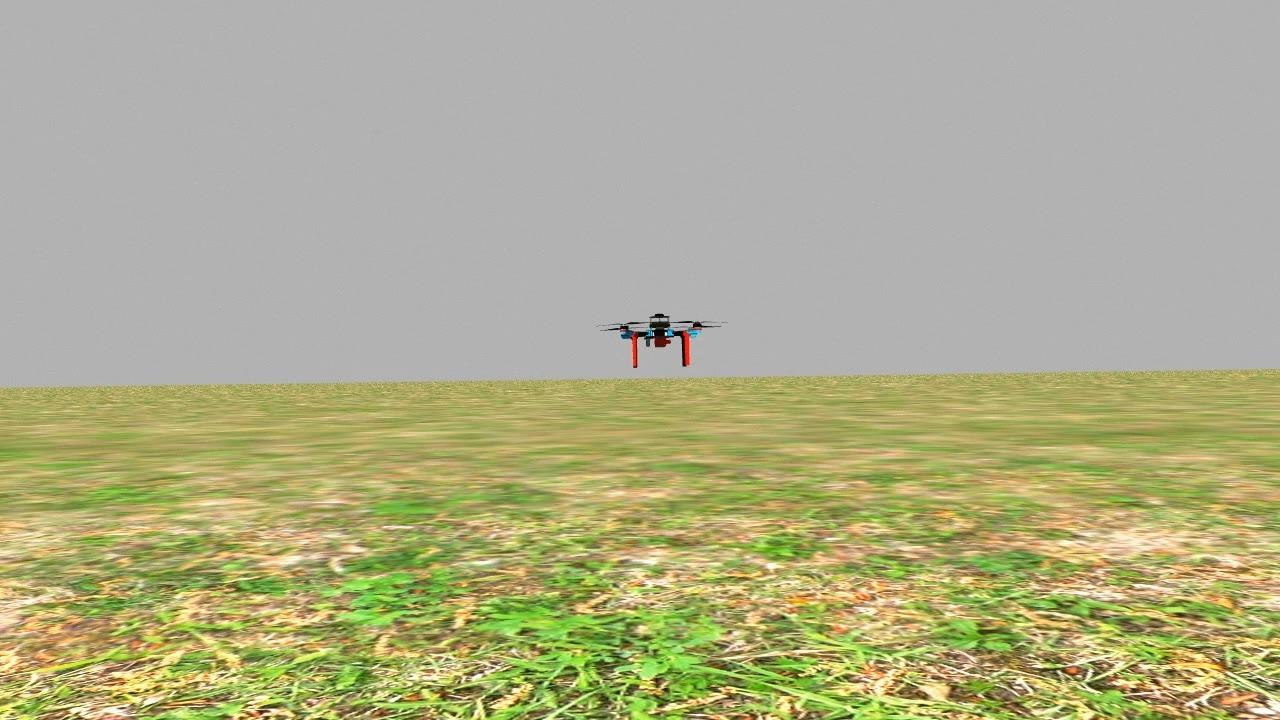UAV: (594, 302, 729, 374)
